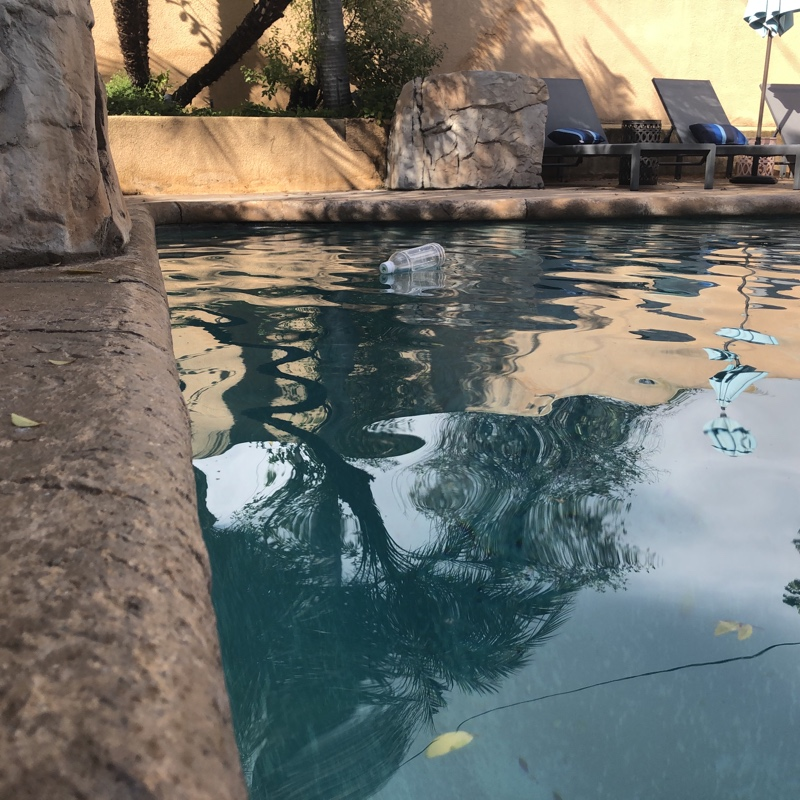Plastic Bottle: (374, 235, 449, 281)
